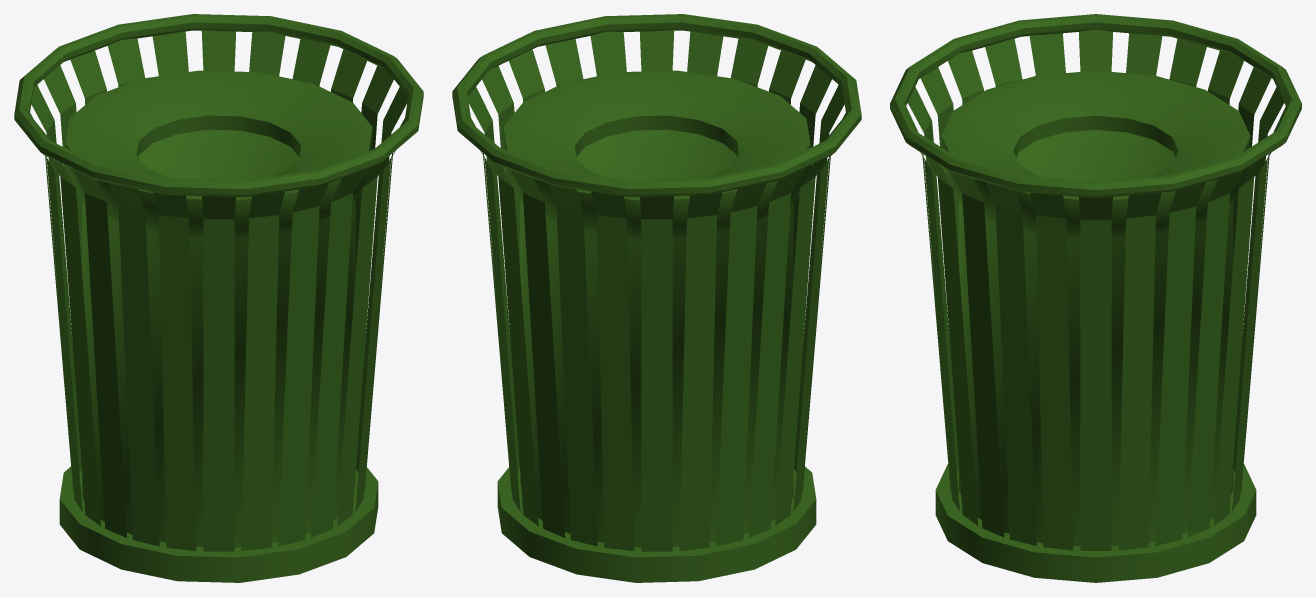
File: Trash_Can.fbx
3 views of the same model, side by side, from view 1: azimuth 30°, elevation 25°; view 2: azimuth 150°, elevation 25°; view 3: azimuth 270°, elevation 25° (orthographic).
Visible parts, largest first — view 1: TrashCan; view 2: TrashCan; view 3: TrashCan.
Boxes of the visible parts, x1=… form: TrashCan: x1=14, y1=14, x2=423, y2=582; TrashCan: x1=452, y1=14, x2=861, y2=582; TrashCan: x1=890, y1=14, x2=1301, y2=582.
Size of the model in its own units: 163 by 182 by 163.
